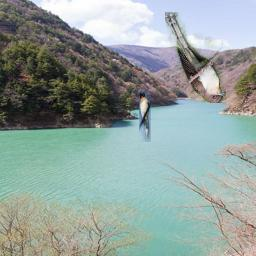Cuckoo: (165, 12, 226, 103)
Swallow: (139, 90, 151, 142)
